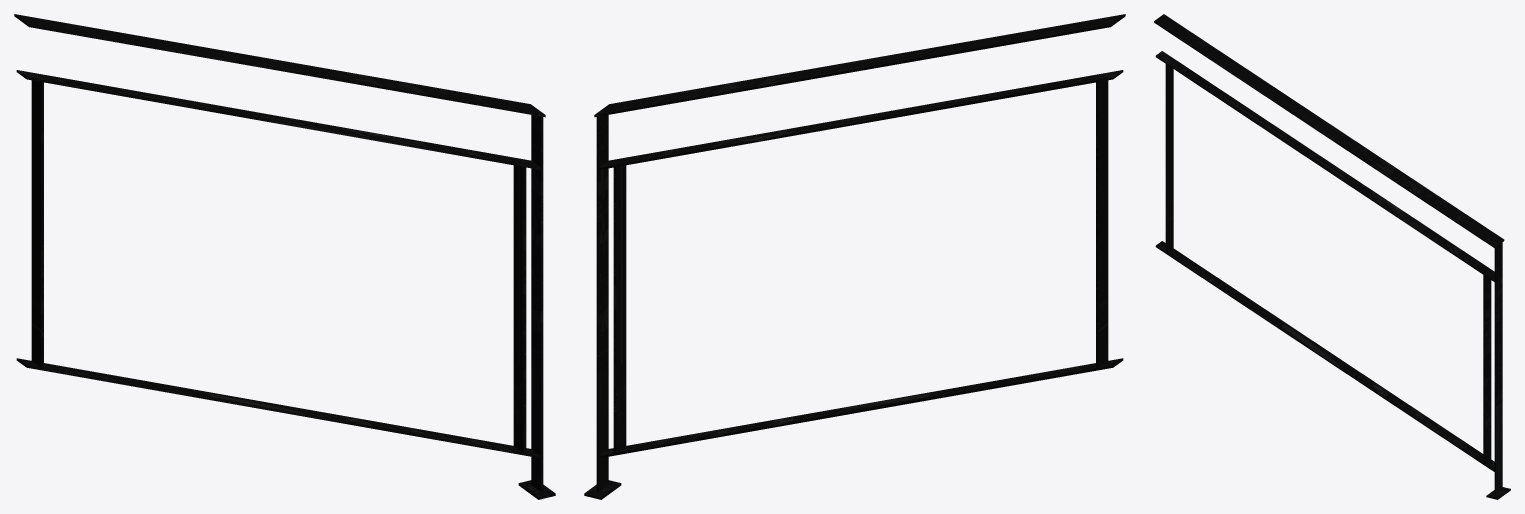
File: frame.fbx
The picture shows the model from 3 angles, left to right: view 1: azimuth 30°, elevation 25°; view 2: azimuth 150°, elevation 25°; view 3: azimuth 330°, elevation 25°; orthographic projection. The views are drawn at different scales.
Parts seen in each view (by area): view 1: railing_42_stair; view 2: railing_42_stair; view 3: railing_42_stair.
Boxes of the visible parts, left/top/right/bottom form: railing_42_stair: left=14, top=14, right=555, bottom=499; railing_42_stair: left=584, top=14, right=1125, bottom=499; railing_42_stair: left=1154, top=14, right=1510, bottom=499.
Size of the model in its own units: 60.88 by 66.25 by 4.
1 material, 1 textured.
